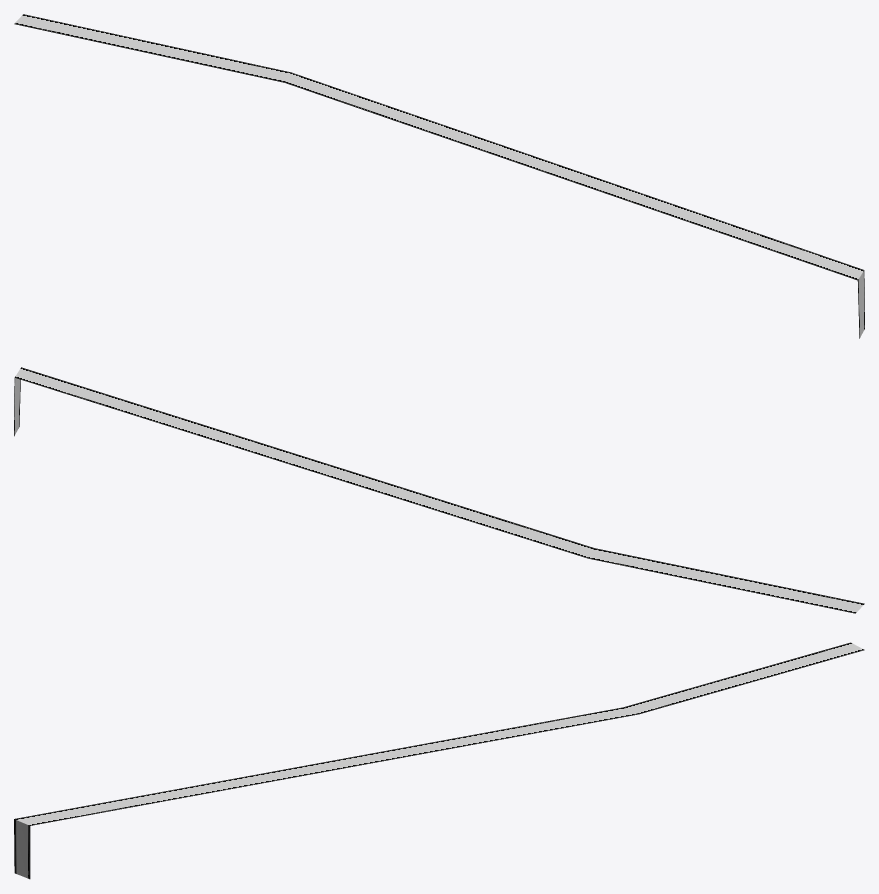
File: M5A_PowerLine01.glb
3 renders of one model, top to bottom at view 1: azimuth 30°, elevation 25°; view 2: azimuth 210°, elevation 25°; view 3: azimuth 270°, elevation 25°, orthographic. The views are drawn at different scales.
Parts seen in each view (by area): view 1: M5A_POWERLINE01; view 2: M5A_POWERLINE01; view 3: M5A_POWERLINE01.
Part boxes in pixels (x1,y1,x2,y2): M5A_POWERLINE01: (14,14,864,338); M5A_POWERLINE01: (14,367,864,613); M5A_POWERLINE01: (14,642,864,879).
Bounding box in the file's own units: 17.3 × 2.88 × 35.62.
Materials: 1 (1 with a texture image).
